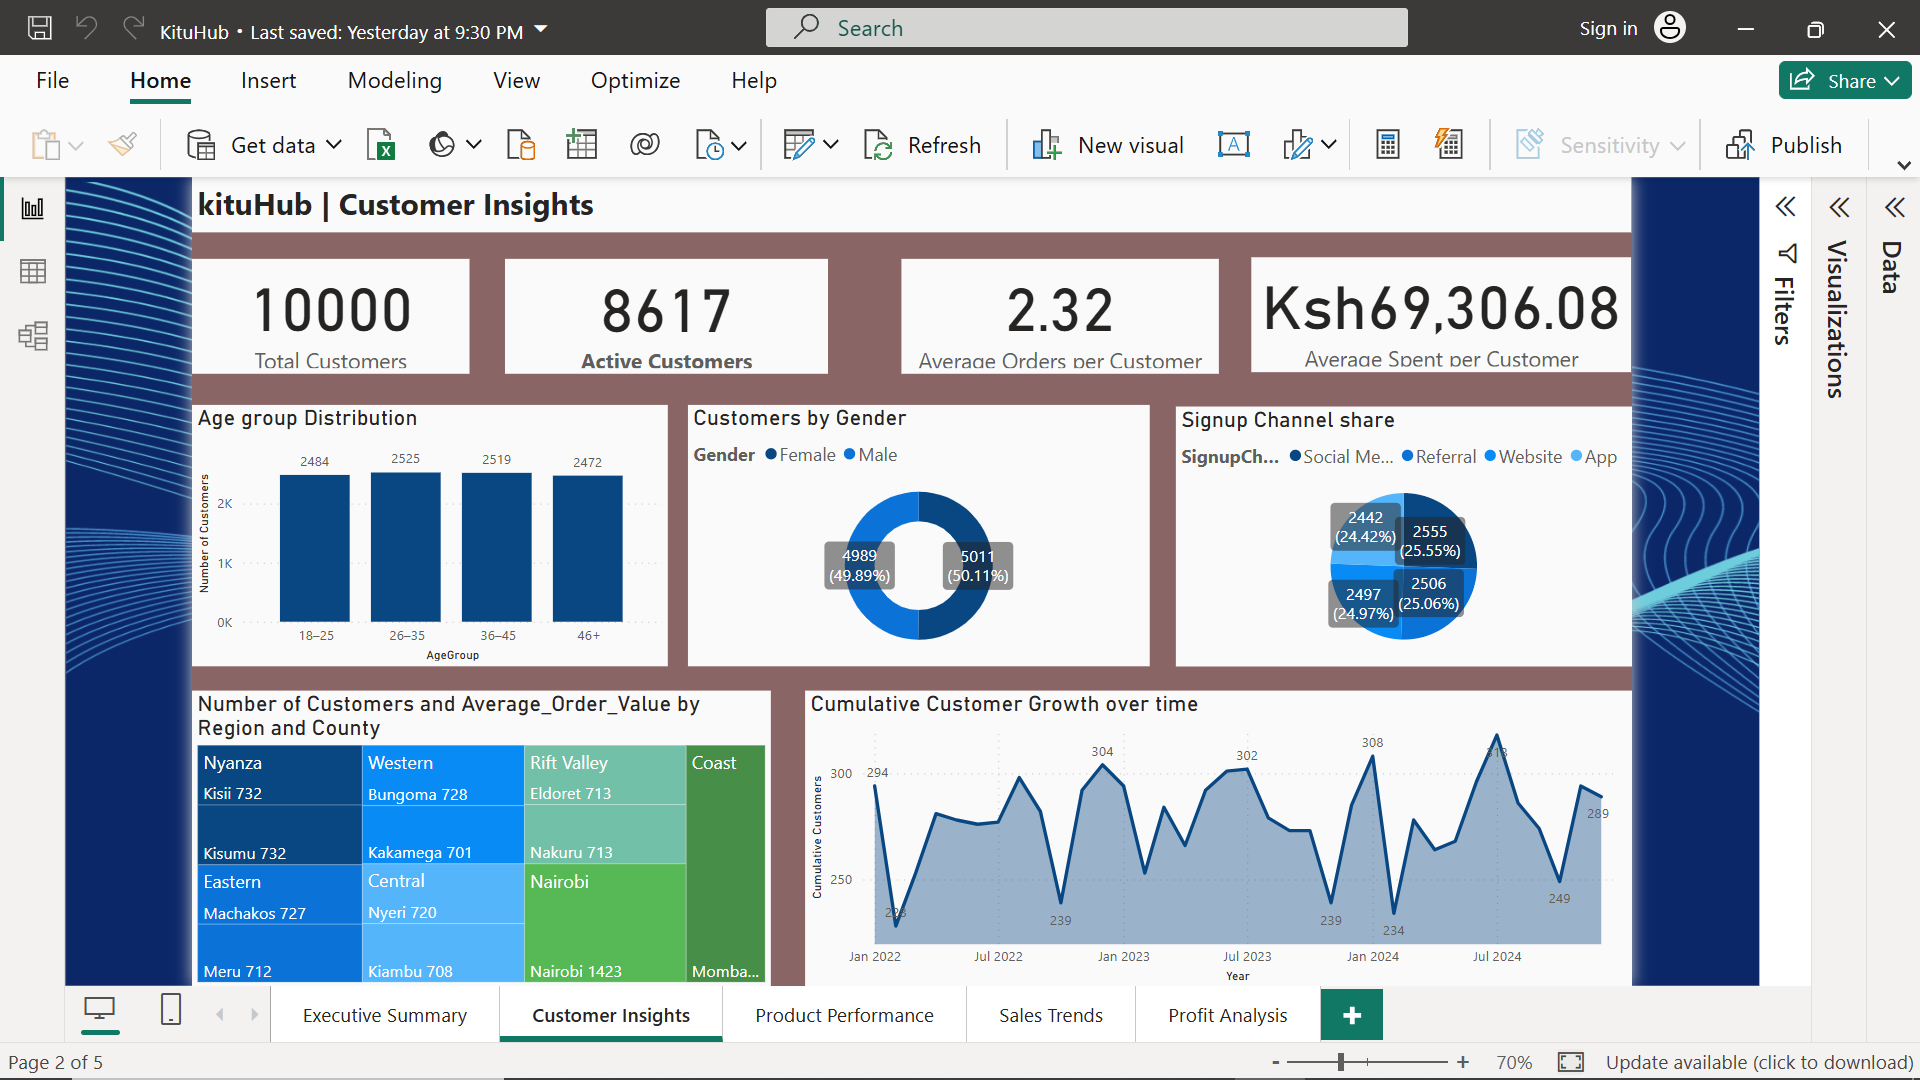

What the dashboard file says about the page in this screenshot:
{"tool":"powerbi","page":{"name":"Customer Insights","canvas":[1280,720],"ordinal":1},"visuals":[{"type":"textbox","box":[0,0,1279.5,49.3],"z":0},{"type":"card","fields":{"Values":["Count(customers.CustomerID)"]},"box":[0,72.3,246.7,102.2],"z":1000},{"type":"card","fields":{"Values":["Count(sales.CustomerID)"]},"box":[278.5,72.3,287.3,102.2],"z":2000},{"type":"card","fields":{"Values":["_Measures.Average Orders per Customer"]},"box":[630.9,72.3,282,102.2],"z":3000},{"type":"card","fields":{"Values":["_Measures.Average Spent per Customer"]},"box":[942,72,338,102],"z":4000},{"type":"donutChart","title":" Customers by Gender","fields":{"Category":["customers.Gender"],"Y":["CountNonNull(customers.CustomerID)"]},"box":[440.6,202.7,410.6,232.6],"z":5000},{"type":"clusteredColumnChart","title":"Age group Distribution","fields":{"Category":["customers.AgeGroup"],"Y":["CountNonNull(customers.CustomerID)"]},"box":[0,202.7,423,232.6],"z":6000},{"type":"pieChart","title":"Signup Channel share","fields":{"Category":["customers.SignupChannel"],"Y":["CountNonNull(customers.CustomerID)"]},"box":[874.1,204.4,405.3,230.9],"z":7000},{"type":"treemap","fields":{"Values":["Count(customers.CustomerID)"],"Group":["customers.Region"],"Details":["customers.County"]},"box":[0,456.4,514.6,264.4],"z":8000},{"type":"areaChart","title":"Cumulative Customer Growth over time","fields":{"Category":["customers.FirstPurchaseDate.Variation.Date Hierarchy.Year","customers.FirstPurchaseDate.Variation.Date Hierarchy.Month"],"Y":["_Measures.Cumulative Customers"]},"box":[544.6,456.4,734.9,264.4],"z":9000}]}

Visuals, with their boxes on the page's 1280x720 design canvas (x1, y1, x2, y2). These are canvas units, not pixel positions in the 1920x1080 screenshot, which may show the page scaled, cropped or inside an application window:
textbox: {"x1": 0, "y1": 0, "x2": 1280, "y2": 49}
card - Count(customers.CustomerID): {"x1": 0, "y1": 72, "x2": 247, "y2": 174}
card - Count(sales.CustomerID): {"x1": 278, "y1": 72, "x2": 566, "y2": 174}
card - _Measures.Average Orders per Customer: {"x1": 631, "y1": 72, "x2": 913, "y2": 174}
card - _Measures.Average Spent per Customer: {"x1": 942, "y1": 72, "x2": 1280, "y2": 174}
" Customers by Gender" donutChart: {"x1": 441, "y1": 203, "x2": 851, "y2": 435}
"Age group Distribution" clusteredColumnChart: {"x1": 0, "y1": 203, "x2": 423, "y2": 435}
"Signup Channel share" pieChart: {"x1": 874, "y1": 204, "x2": 1279, "y2": 435}
treemap - Count(customers.CustomerID) x customers.Region: {"x1": 0, "y1": 456, "x2": 515, "y2": 721}
"Cumulative Customer Growth over time" areaChart: {"x1": 545, "y1": 456, "x2": 1280, "y2": 721}
